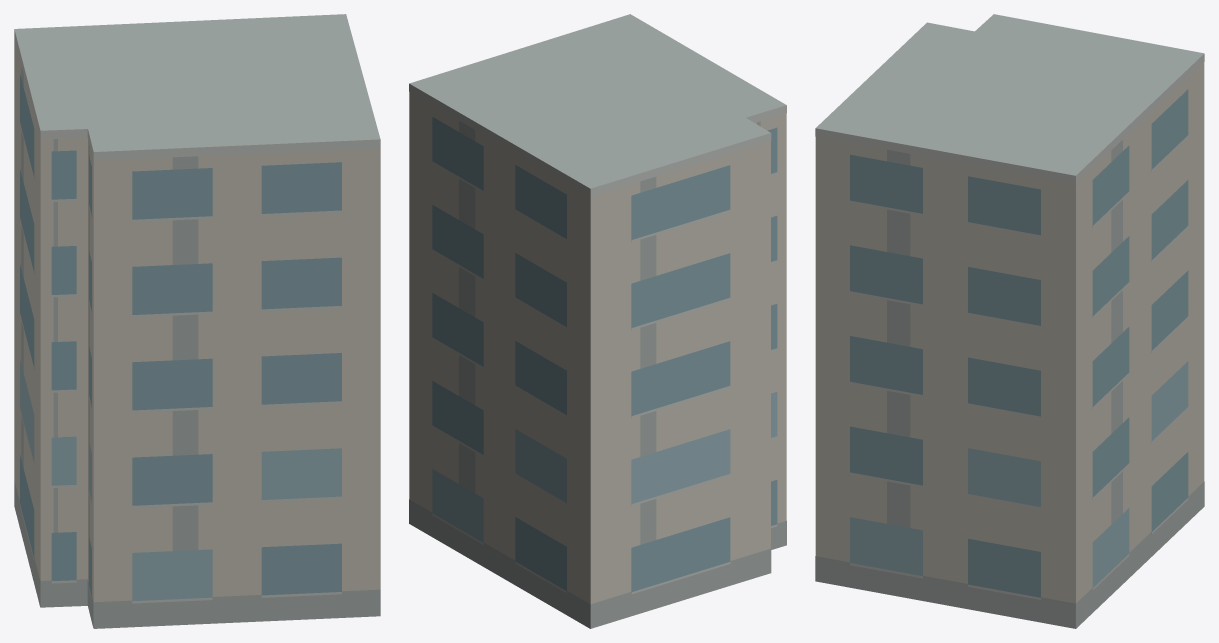
Rendered from survey-upis-32965877.glb.
The picture shows the model from 3 angles, left to right: view 1: azimuth 30°, elevation 25°; view 2: azimuth 150°, elevation 25°; view 3: azimuth 270°, elevation 25°; orthographic projection. The views are drawn at different scales.
Parts seen in each view (by area): view 1: survey-upis-32965877.tmp; view 2: survey-upis-32965877.tmp; view 3: survey-upis-32965877.tmp.
Part boxes in pixels (x1,y1,x2,y2): survey-upis-32965877.tmp: [14, 14, 380, 628]; survey-upis-32965877.tmp: [409, 14, 786, 628]; survey-upis-32965877.tmp: [815, 14, 1204, 628].
Bounding box in the file's own units: 10.12 × 13.2 × 10.28.
